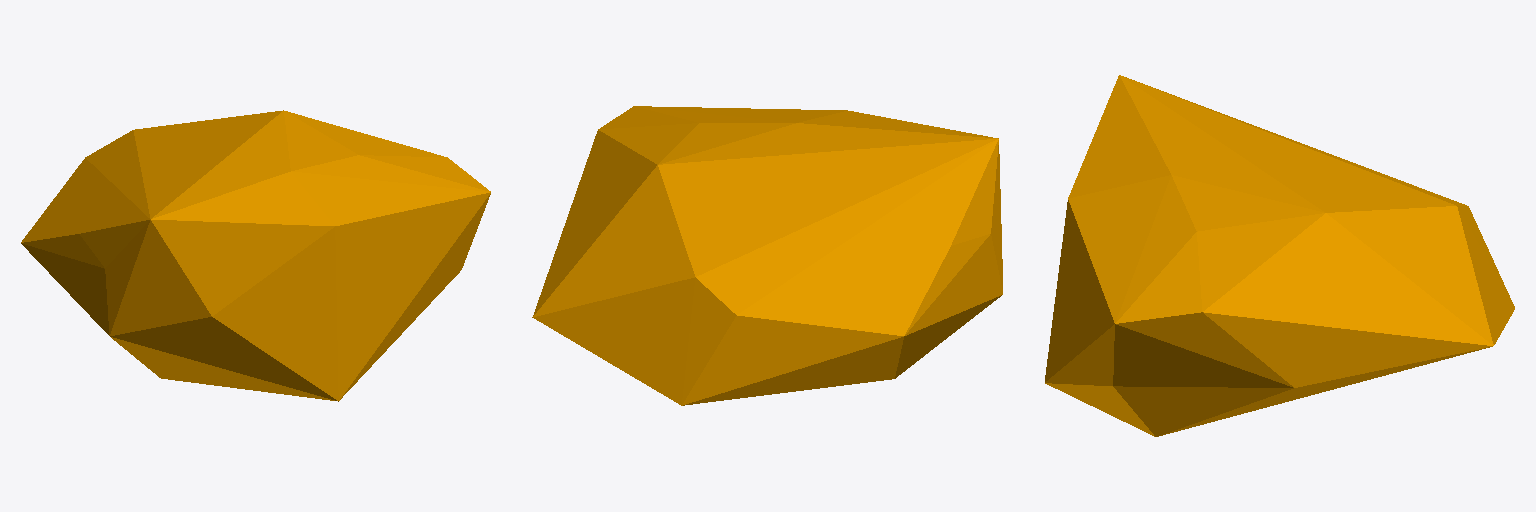
robot.urdf — train2894:
<?xml version="1.0"?>
<robot name="train2894">
  <link name="link">
    <contact>
      <lateral_friction value="0.6"/>
    </contact>
    <inertial>
      <mass value = "0.46321342366861035"/>
      <inertia ixx="0.0002333798306977034" ixy="-5.968935300182646e-21" ixz="9.763790487240396e-38" iyy="0.00024334289499970696" iyz="-3.2557828910087177e-21" izz="0.00036858368431455377" />
    </inertial>
    <visual name="visual">
      <geometry>
        <mesh filename="train2894.obj"/>
      </geometry>
    </visual>
    <collision name="collision">
      <geometry>
        <mesh filename="train2894.obj"/>
      </geometry>
    </collision>
  </link>
</robot>

--- What the picture shows (computed from the rendered views, not written in the file) ---
Views: 3 orthographic renders of the robot side by side, from view 1: azimuth 30°, elevation 25°; view 2: azimuth 150°, elevation 25°; view 3: azimuth 270°, elevation 25°.
Robot: train2894 — 1 links, 0 joints (none); root link link; default pose: every joint at zero.
Visible links, largest first — view 1: link; view 2: link; view 3: link.
Boxes of the visible links, x1,y1,x2,y2 form: link: (21,110,490,401); link: (532,106,1002,405); link: (1045,75,1514,436).
Bounding box of the posed robot: 0.0906 × 0.09 × 0.0498 m (x, y, z).
Meshes: 1 distinct files referenced, 1 mesh visuals loaded (1 OBJ).
